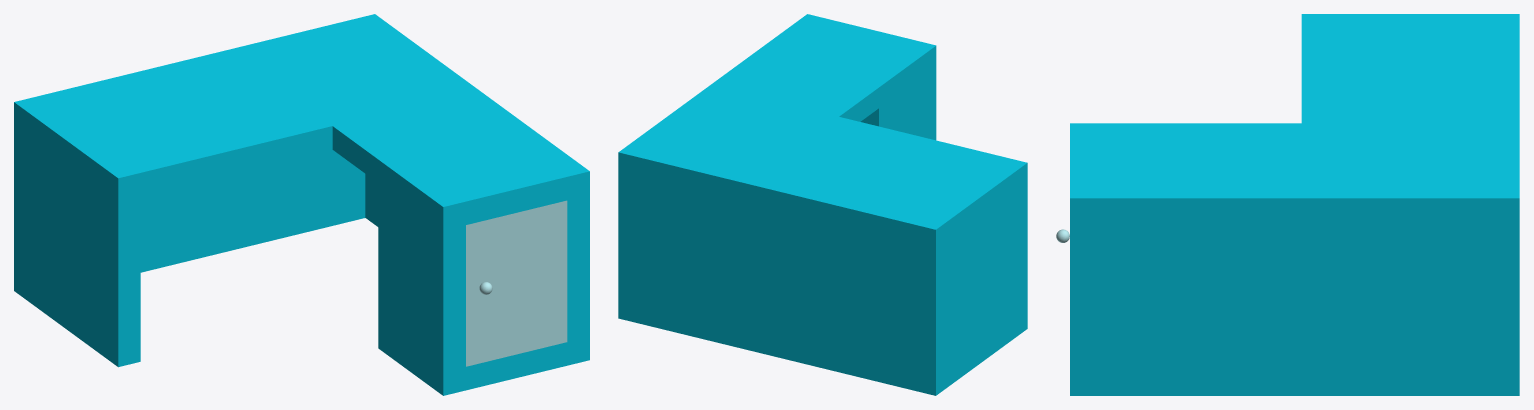
Rendered from Spacious Study Desk.glb.
3 views of the same model, side by side, from view 1: azimuth 30°, elevation 25°; view 2: azimuth 150°, elevation 25°; view 3: azimuth 270°, elevation 25° (orthographic). The views are drawn at different scales.
Parts seen in each view (by area): view 1: Top 1, Wall 5, Wall 1, Top 2, Door, Wall 3, Wall 2, Bottom, Wall 4; view 2: Wall 1, Top 1, Wall 5, Top 2, Wall 2, Wall 3, Wall 4; view 3: Wall 2, Top 1, Top 2, Wall 1, Bottom, Wall 4, Wall 5, Wall 3.
Boxes of the visible parts, x1,y1,x2,y2 form: Top 1: (14, 14, 478, 201); Wall 5: (14, 96, 140, 367); Wall 1: (14, 14, 386, 299); Top 2: (332, 90, 589, 230); Door: (466, 200, 567, 366); Wall 3: (391, 171, 465, 395); Wall 2: (359, 14, 589, 362); Bottom: (466, 337, 589, 390); Wall 4: (378, 127, 525, 357); Wall 1: (618, 144, 946, 395); Top 1: (618, 85, 1027, 250); Wall 5: (916, 158, 1027, 395); Top 2: (711, 14, 936, 121); Wall 2: (618, 14, 826, 318); Wall 3: (871, 41, 936, 140); Wall 4: (763, 50, 890, 129); Wall 2: (1070, 186, 1519, 395); Top 1: (1301, 14, 1519, 222); Top 2: (1070, 123, 1301, 222); Wall 1: (1492, 14, 1519, 395); Bottom: (1070, 371, 1178, 395); Wall 4: (1179, 123, 1206, 192); Wall 5: (1302, 14, 1519, 25); Wall 3: (1070, 123, 1178, 134).
Size of the model in its own units: 102 by 50.8 by 108.
